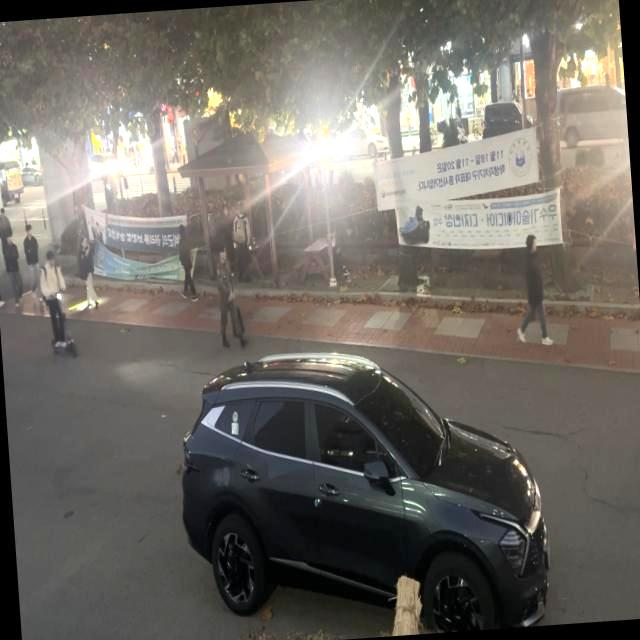bare_head: (39, 247, 65, 267)
human: (33, 242, 69, 344)
kickboard: (48, 334, 93, 364)
